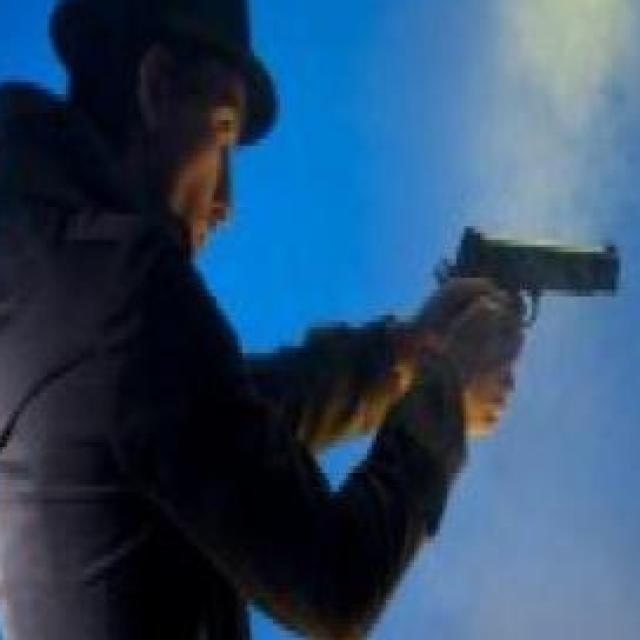pistol: (410, 202, 628, 410)
